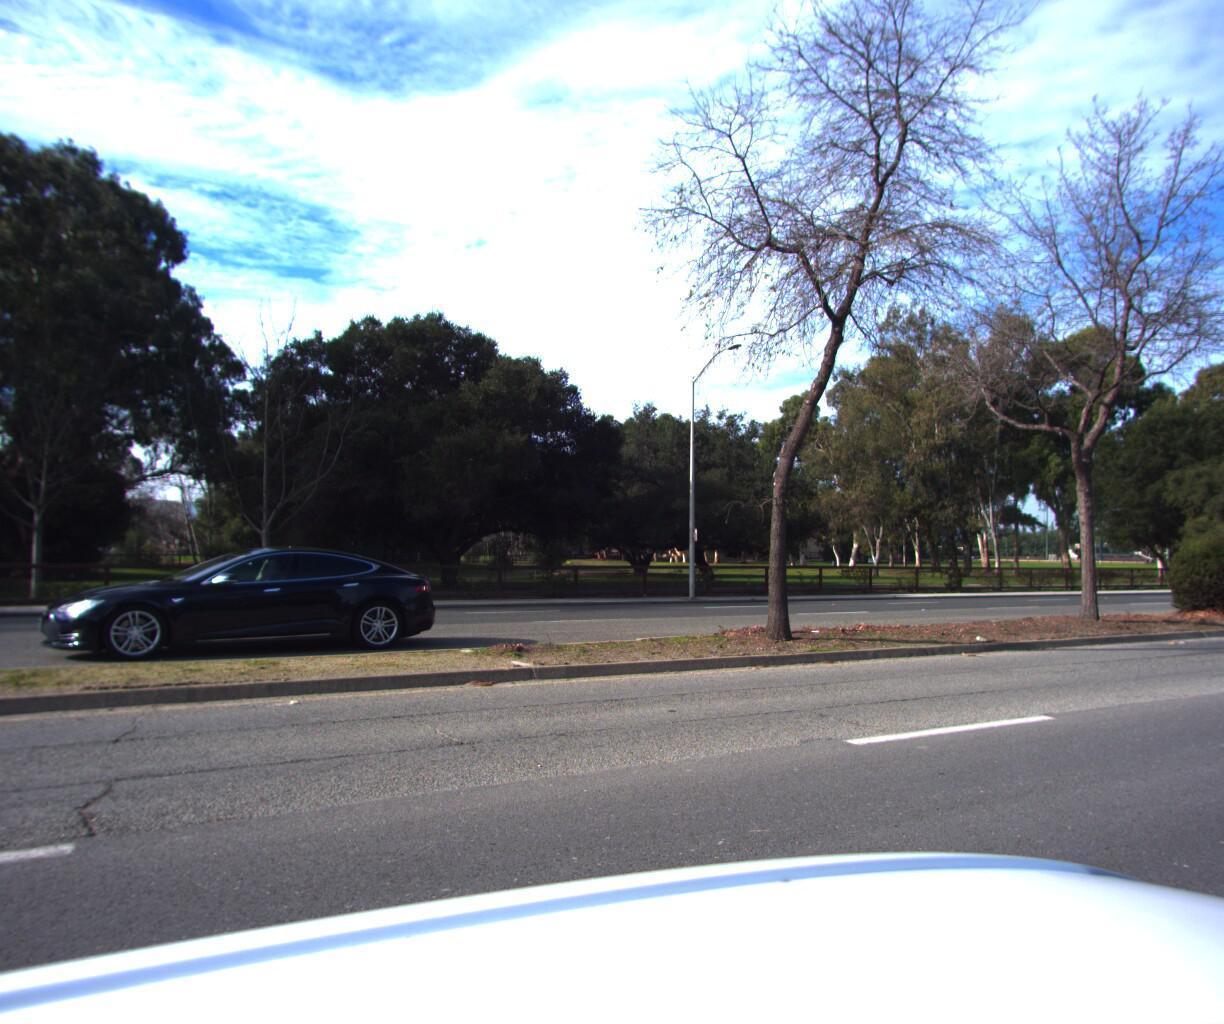car: (47, 537, 462, 673)
